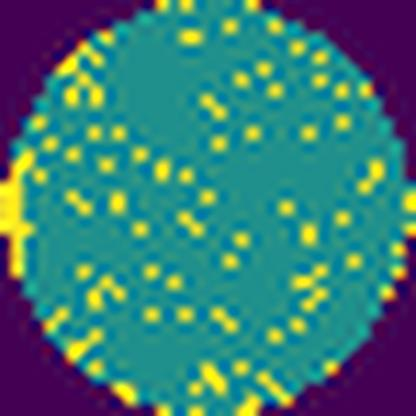Edge-Loc: (0, 141, 39, 288)
